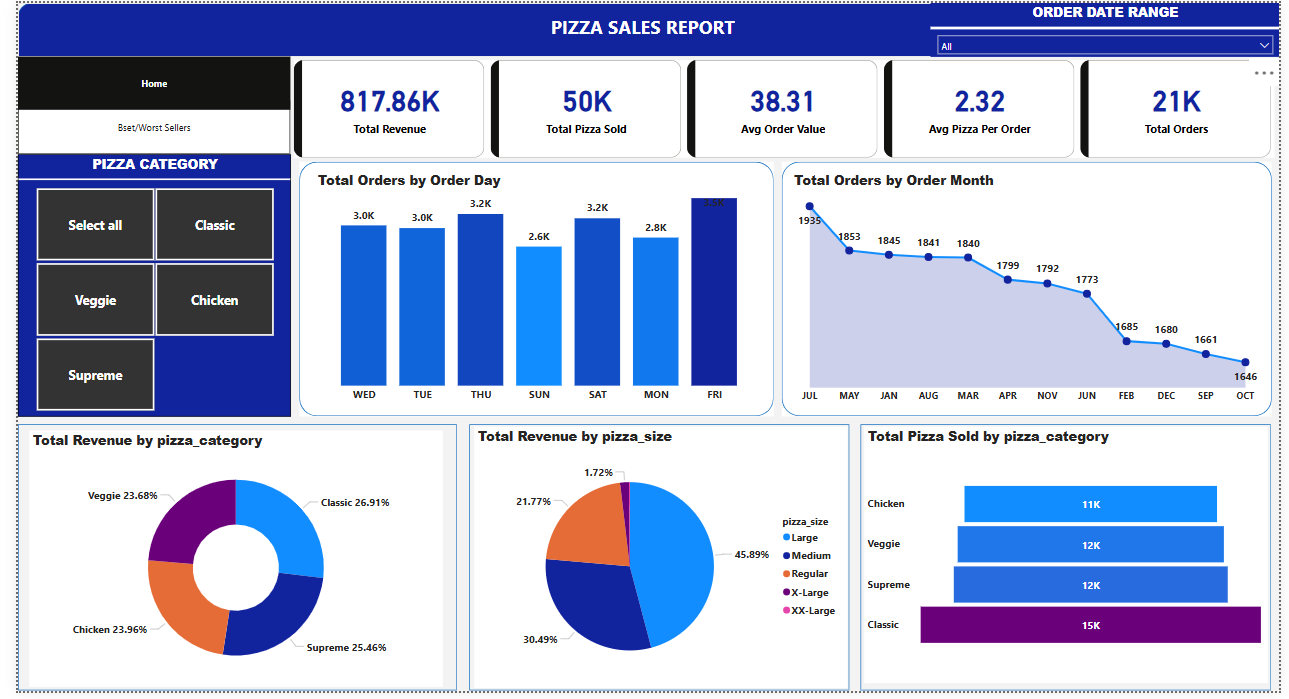

This screenshot's page, from the dashboard's own definition file:
{"tool":"powerbi","page":{"name":"Home","canvas":[1835,1000],"ordinal":0},"visuals":[{"type":"cardVisual","fields":{"Data":["pizza_sales.Total Revenue","pizza_sales.Total Pizza Sold","pizza_sales.Avg Order Value","pizza_sales.Avg Pizza Per Order","pizza_sales.Total Orders"]},"box":[397.1,78.6,1438.6,152.9],"z":0},{"type":"shape","box":[11.4,0,1824.3,78.6],"z":1000},{"type":"textbox","box":[747.8,10.1,323.2,56.5],"z":2000},{"type":"shape","box":[408.6,231.4,690,370],"z":3000},{"type":"columnChart","fields":{"Category":["pizza_sales.Order Day"],"Y":["pizza_sales.Total Orders"]},"box":[430,242.9,655.7,347.1],"z":4000},{"type":"shape","box":[1110,231.4,712.9,370],"z":5000},{"type":"areaChart","fields":{"Category":["pizza_sales.Order Month"],"Y":["pizza_sales.Total Orders"]},"box":[1122.9,242.9,690,347.1],"z":6000},{"type":"shape","box":[0,612.9,638.6,387.1],"z":7000},{"type":"shape","box":[1225.7,612.9,597.1,387.1],"z":8000},{"type":"shape","box":[657.1,612.9,552.9,387.1],"z":9000},{"type":"donutChart","fields":{"Category":["pizza_sales.pizza_category"],"Y":["pizza_sales.Total Revenue"]},"box":[17.1,621.4,601.4,372.9],"z":10000},{"type":"pieChart","fields":{"Category":["pizza_sales.pizza_size"],"Y":["pizza_sales.Total Revenue"]},"box":[662.9,617.1,542.9,380],"z":11000},{"type":"funnel","fields":{"Category":["pizza_sales.pizza_category"],"Y":["pizza_sales.Total Pizza Sold"]},"box":[1230,617.1,587.1,372.9],"z":12000},{"type":"slicer","title":"PIZZA CATEGORY","fields":{"Values":["pizza_sales.pizza_category"]},"box":[11.4,220,385.7,381.4],"z":13000},{"type":"slicer","title":"ORDER DATE RANGE","fields":{"Values":["pizza_sales.order_date"]},"box":[1327.1,0,508.6,78.6],"z":14000},{"type":"pageNavigator","box":[17.1,141.4,370,78.6],"z":15000},{"type":"pageNavigator","box":[17.1,78.6,370,77.1],"z":16000}]}

Visuals, with their boxes in screenshot pixels (x1, y1, x2, y2), scaled from the page's 1835x1000 canvas onto the 1289x699 screenshot:
cardVisual - pizza_sales.Total Revenue x pizza_sales.Total Pizza Sold: locate(279, 55, 1288, 162)
shape: locate(8, 0, 1288, 55)
textbox: locate(525, 7, 752, 47)
shape: locate(287, 162, 772, 420)
columnChart - pizza_sales.Order Day x pizza_sales.Total Orders: locate(302, 170, 763, 412)
shape: locate(780, 162, 1281, 420)
areaChart - pizza_sales.Order Month x pizza_sales.Total Orders: locate(789, 170, 1273, 412)
shape: locate(0, 428, 449, 698)
shape: locate(861, 428, 1280, 698)
shape: locate(462, 428, 850, 698)
donutChart - pizza_sales.pizza_category x pizza_sales.Total Revenue: locate(12, 434, 434, 695)
pieChart - pizza_sales.pizza_size x pizza_sales.Total Revenue: locate(466, 431, 847, 697)
funnel - pizza_sales.pizza_category x pizza_sales.Total Pizza Sold: locate(864, 431, 1276, 692)
"PIZZA CATEGORY" slicer: locate(8, 154, 279, 420)
"ORDER DATE RANGE" slicer: locate(932, 0, 1288, 55)
pageNavigator: locate(12, 99, 272, 154)
pageNavigator: locate(12, 55, 272, 109)
